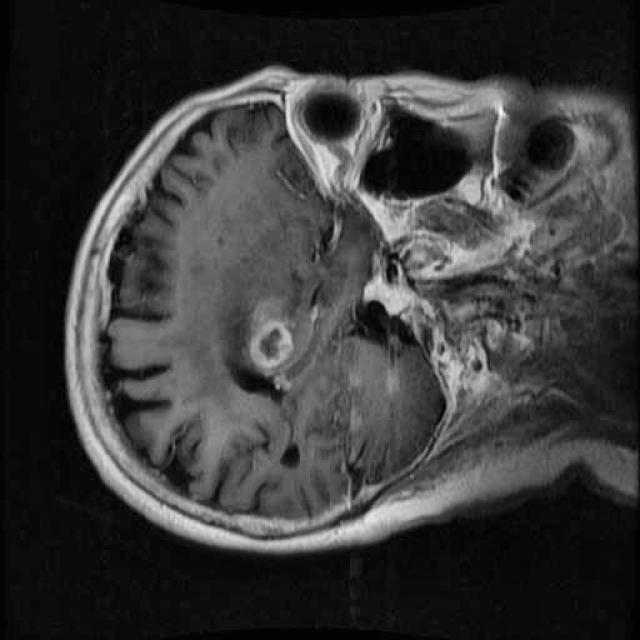Tumor: (224, 285, 330, 399)
